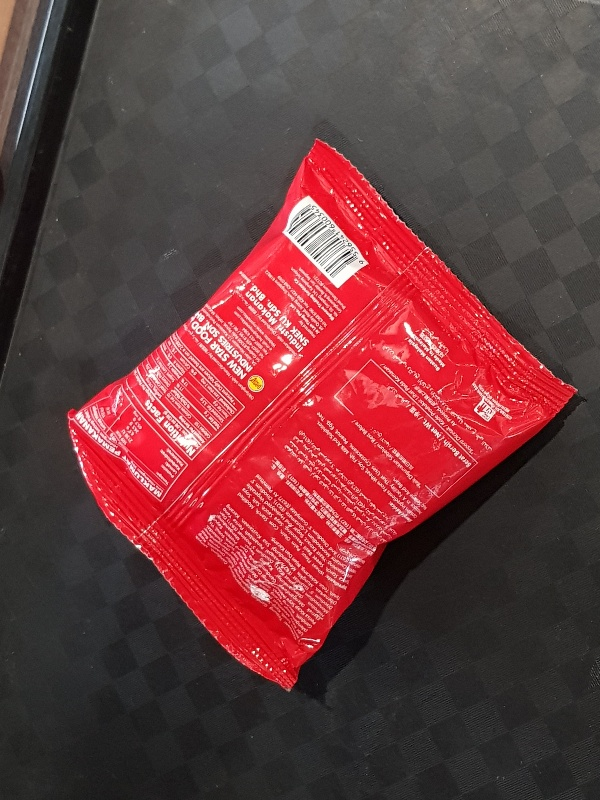ShoyueMi Spicy Flavoured Snacks: (64, 134, 578, 697)
